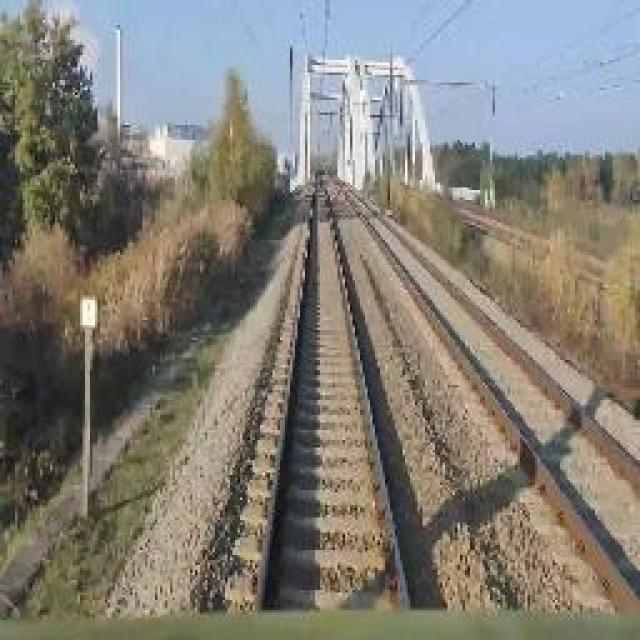rail: (326, 175, 640, 615), (210, 172, 461, 614)
